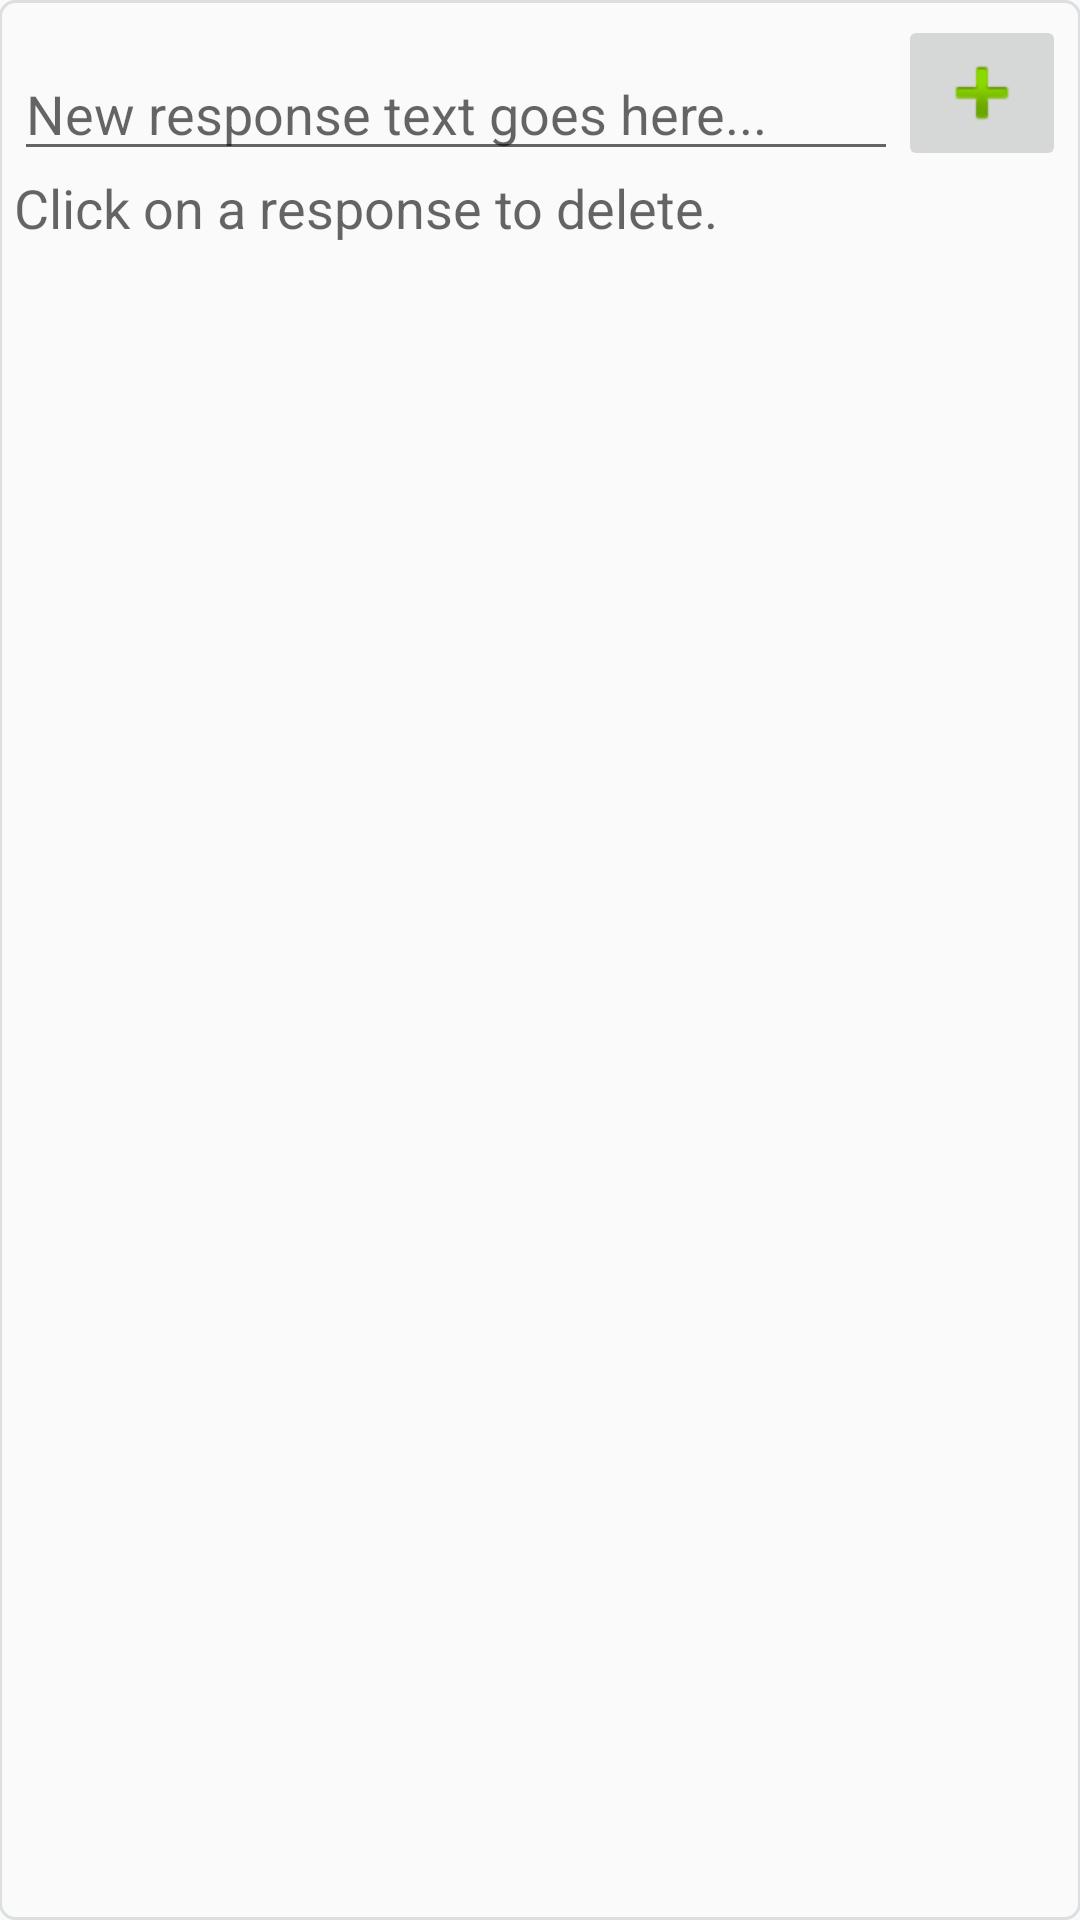

Locate icon controls on the screen. Image size 1080w x 1920h, boxes as BBox(x1, y1, x2, y2).
add: BBox(910, 33, 1054, 153)
